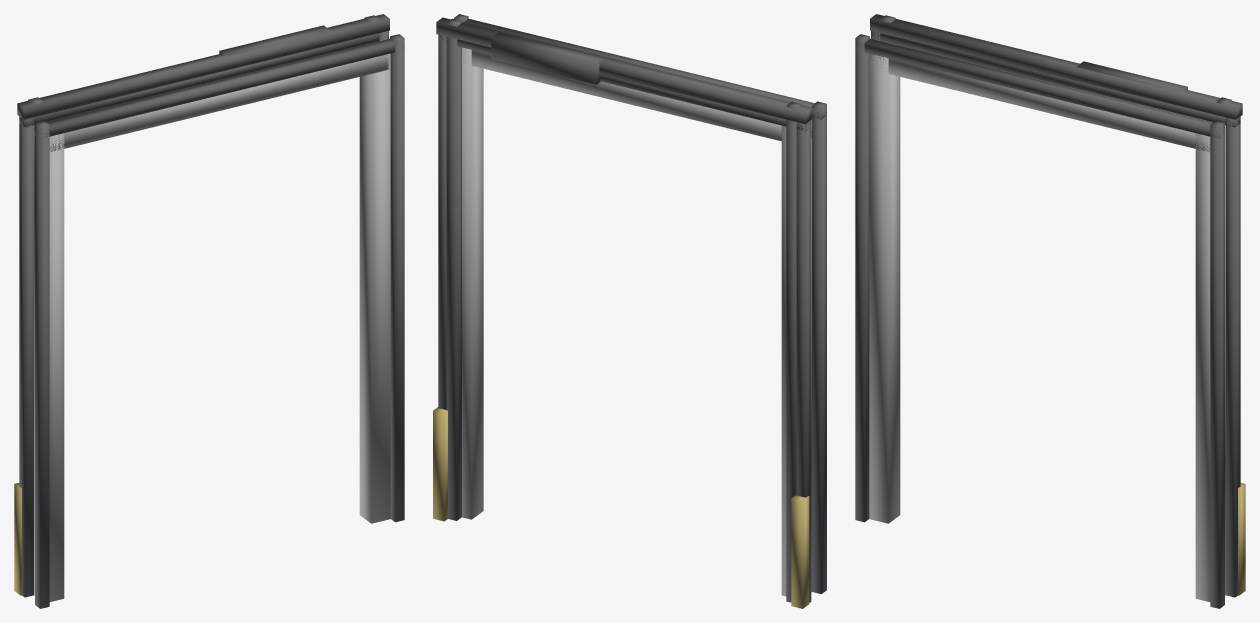
The model's file is bay_opening_loading_bay_w300_h420_d20.glb.
3 views of the same model, side by side, from view 1: azimuth 30°, elevation 25°; view 2: azimuth 150°, elevation 25°; view 3: azimuth 330°, elevation 25° (orthographic).
Parts seen in each view (by area): view 1: world; view 2: world; view 3: world.
Boxes of the visible parts, x1,y1,x2,y2 form: world: [14, 14, 404, 608]; world: [433, 14, 826, 608]; world: [855, 14, 1245, 608].
Size of the model in its own units: 3.58 by 4.59 by 0.422.
